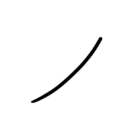no: (27, 33, 105, 106)
